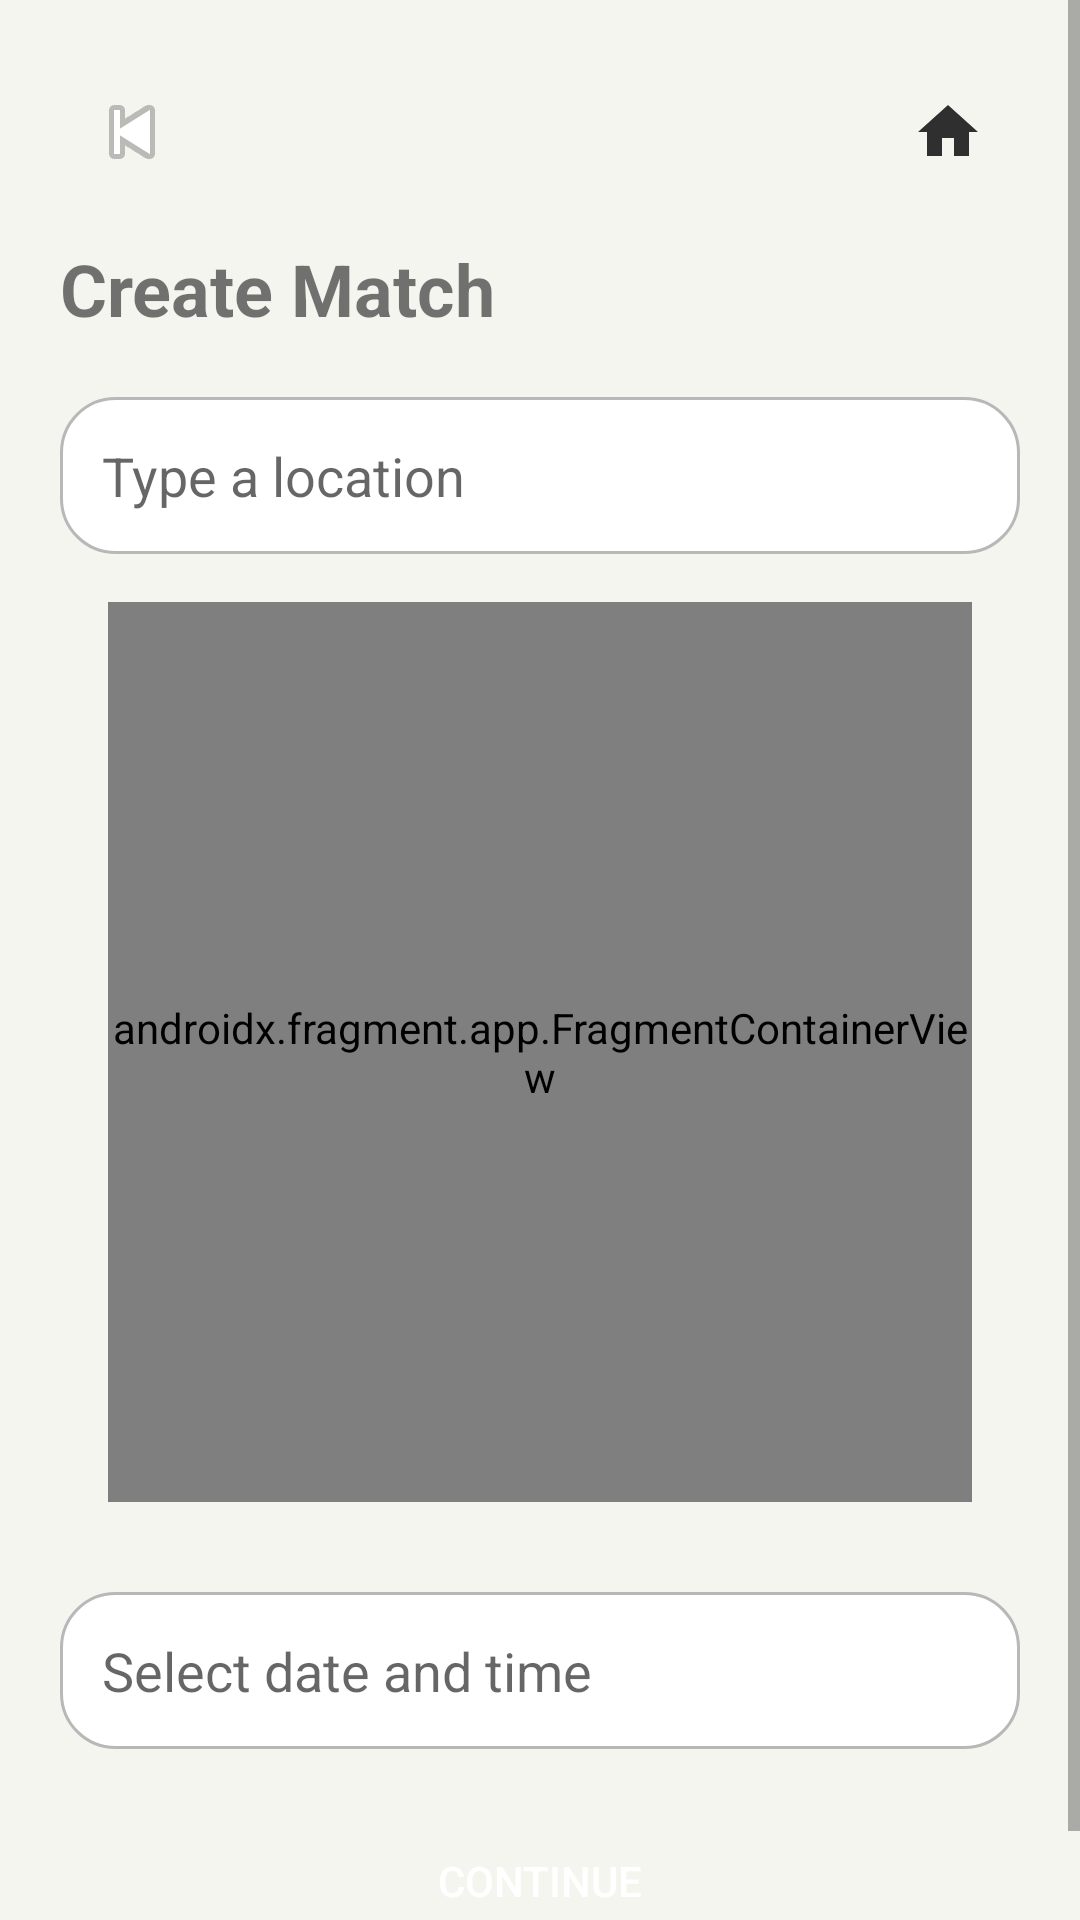

Screen size 1080*1920. Icon name, then its box in pixels as (x1, y1, x2, y2):
Back: (109, 105, 155, 159)
Home: (918, 105, 978, 156)
